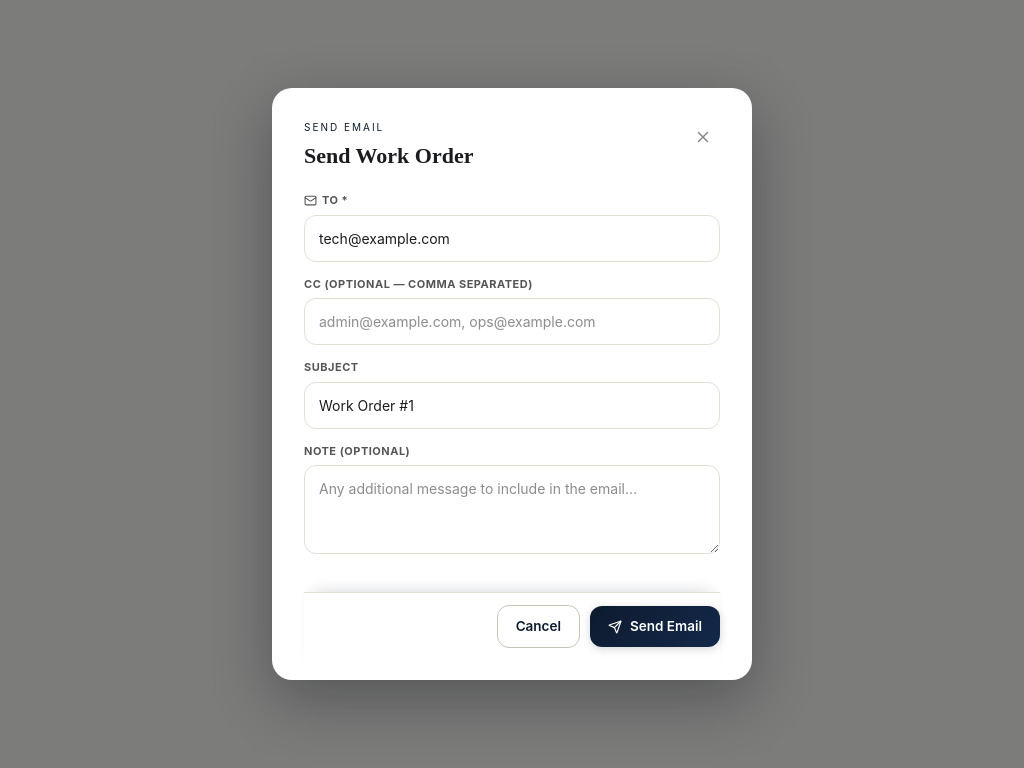
Test: EmailModal › says the server did not answer when the body is empty, not a JSON error
The width and height of the screenshot is (1024, 768).
What coordinates should you click on to do the following:
click the button "Send Email"
I would click on:
 (655, 627)
Its box is [590,606,720,647].
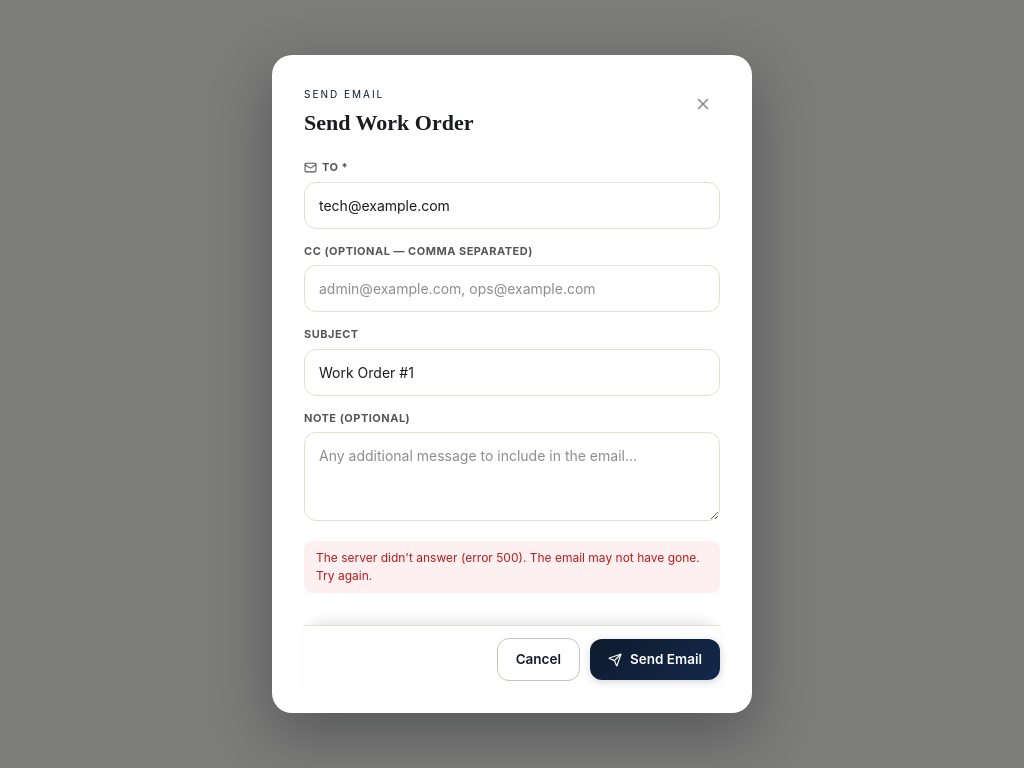
Expected: the text "The server didn't answer (error 500)" is shown, [316,550,700,583]
